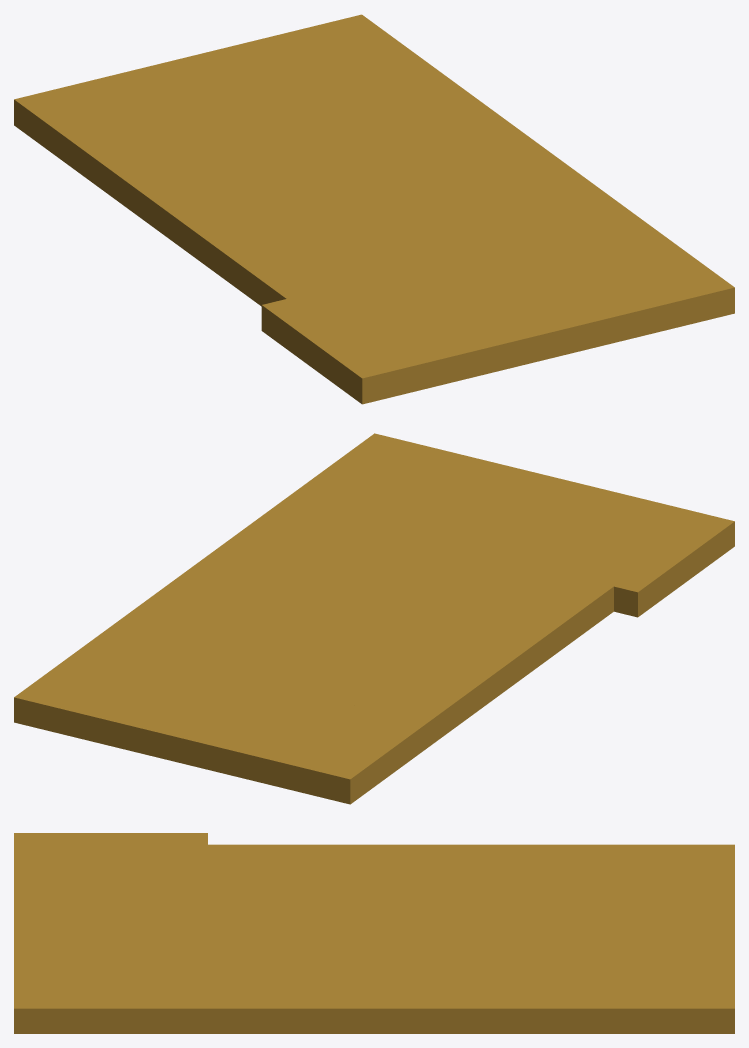
File: techoA.obj
3 views of the same model, one above another, from view 1: azimuth 30°, elevation 25°; view 2: azimuth 150°, elevation 25°; view 3: azimuth 270°, elevation 25° (orthographic). The views are drawn at different scales.
Parts seen in each view (by area): view 1: Wall.009; view 2: Wall.009; view 3: Wall.009.
Part boxes in pixels (x1,y1,x2,y2): Wall.009: (14,14,734,404); Wall.009: (14,433,734,804); Wall.009: (14,833,734,1033).
Size of the model in its own units: 15 by 1 by 26.
Materials: 28 (28 with a texture image).
